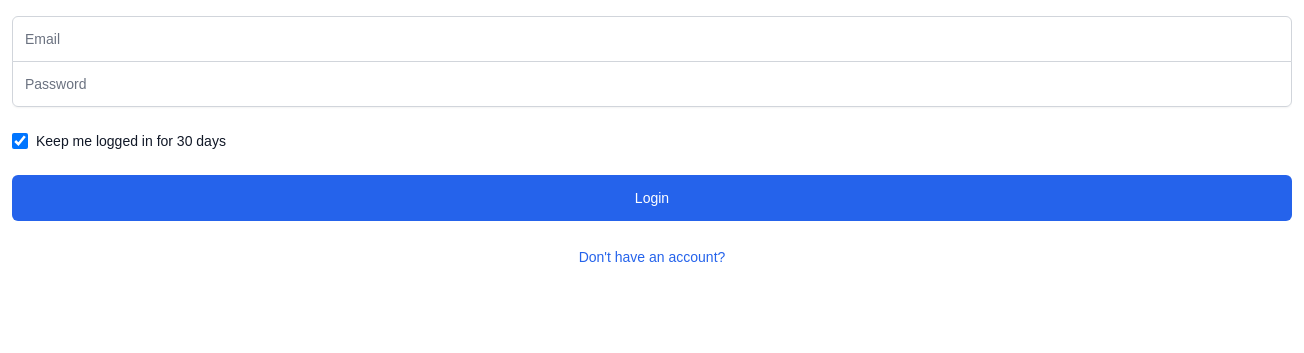
Test: LoginForm › Form Validation › should show error for short password
The width and height of the screenshot is (1304, 353).
Type "test@example.com" into the field with placeholder "Email" at (652, 39), box [12,16,1292,62]
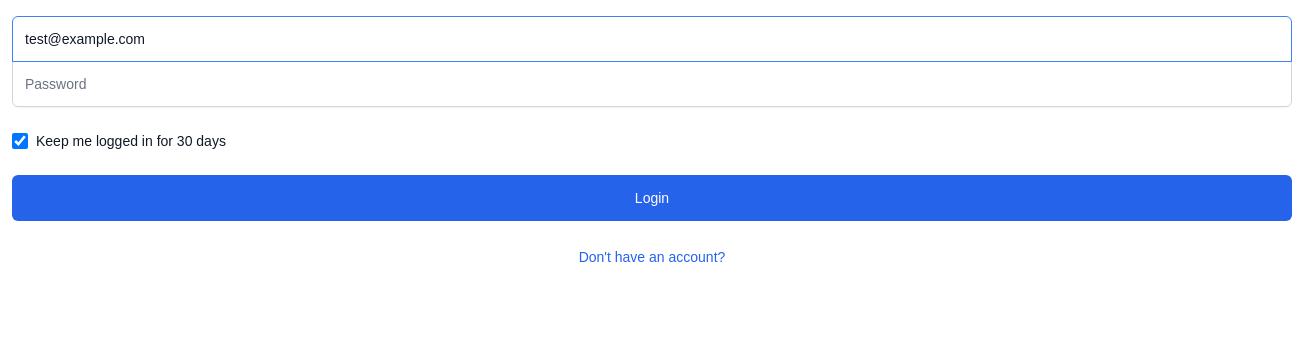
Type "12345" into the password field with placeholder "Password" at (652, 84), box [12,61,1292,107]
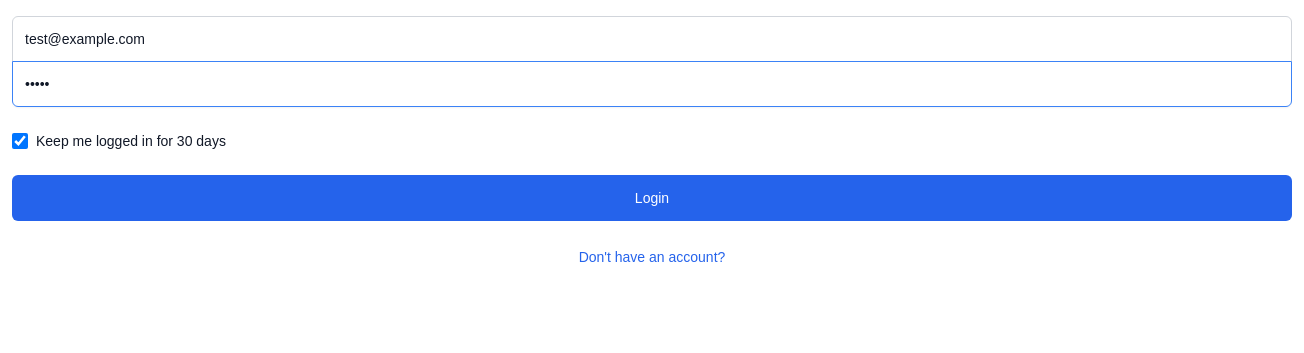
Click the button "Login" at (652, 198), box [12,175,1292,221]
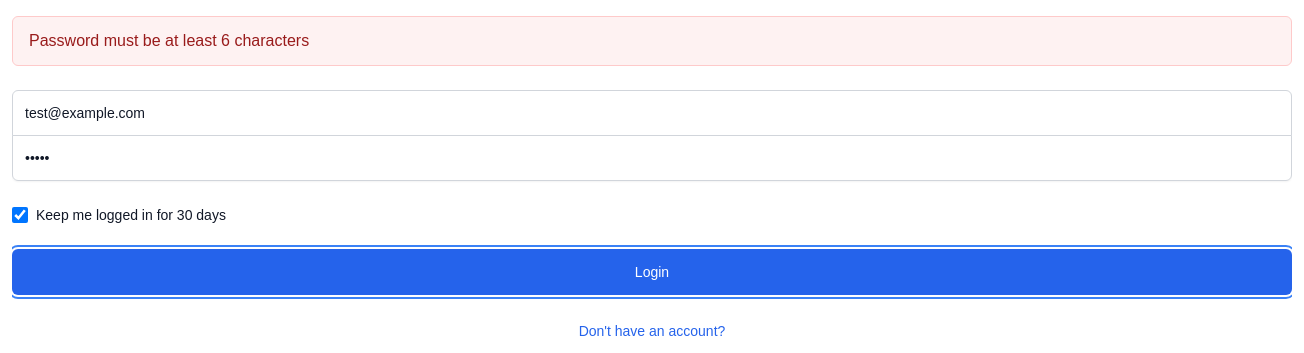
Now the text "Password must be at least 6 characters" is shown, box [12,16,1292,66]
